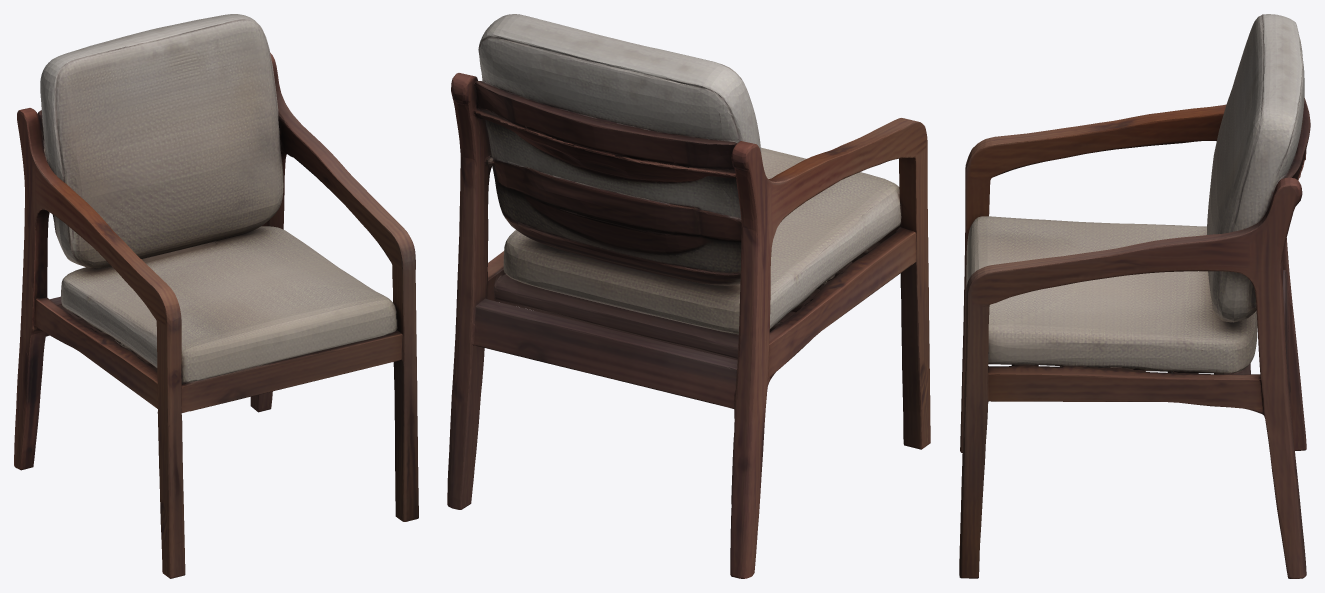
File: SILLA Shantomas.glb
3 views of the same model, side by side, from view 1: azimuth 30°, elevation 25°; view 2: azimuth 150°, elevation 25°; view 3: azimuth 270°, elevation 25° (orthographic). The views are drawn at different scales.
Parts seen in each view (by area): view 1: world; view 2: world; view 3: world.
Boxes of the visible parts, box(x1,y1,x2,y2) form: world: box(14, 14, 418, 578); world: box(447, 14, 930, 578); world: box(959, 14, 1310, 578).
Size of the model in its own units: 0.55 by 0.85 by 0.6.
1 material, 1 textured.
